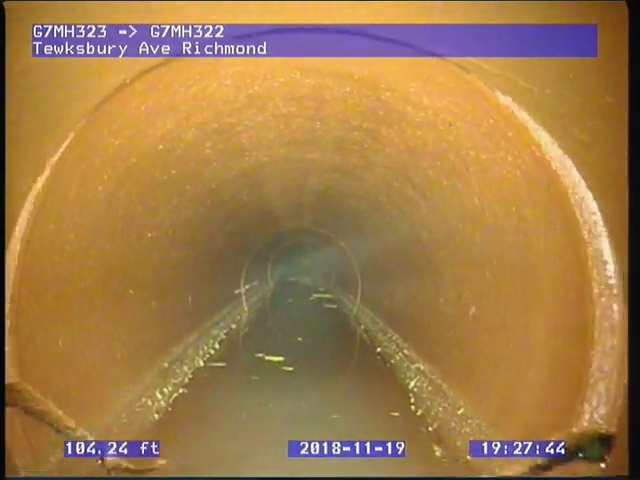crack: (6, 379, 169, 478), (504, 429, 619, 477)
